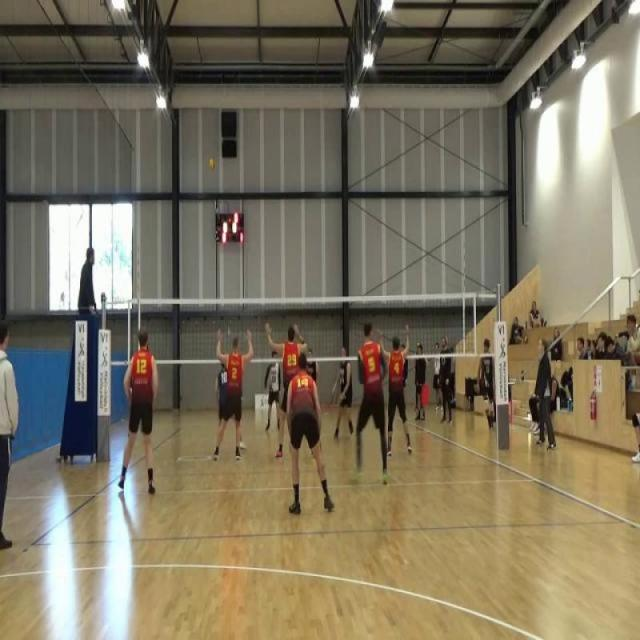volleyball: (208, 155, 217, 173)
